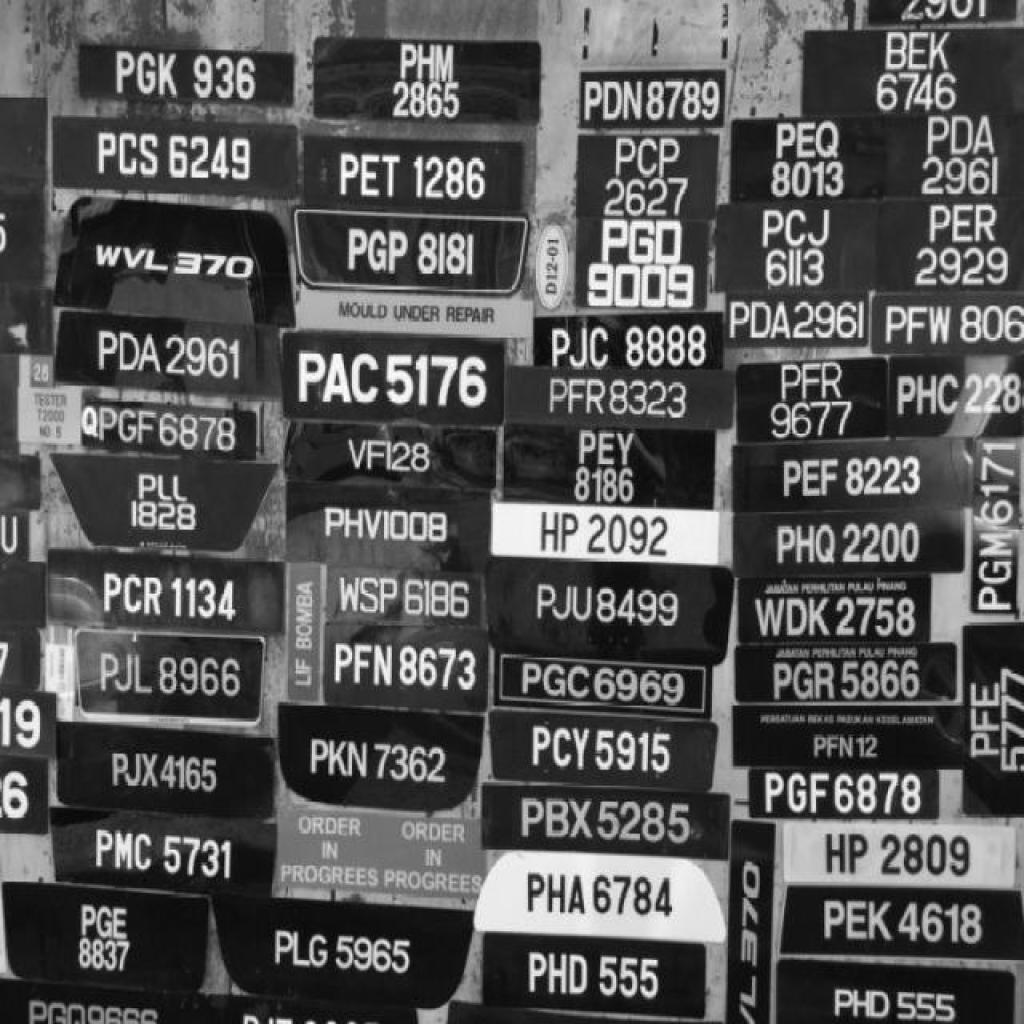car plate: (56, 194, 292, 325), (210, 898, 478, 1008), (3, 882, 210, 989), (492, 557, 722, 653), (44, 546, 286, 637), (50, 806, 275, 900), (278, 704, 483, 807), (56, 723, 278, 817), (49, 114, 298, 196), (485, 930, 710, 1018), (52, 311, 278, 398), (286, 338, 506, 427), (486, 708, 717, 791), (483, 785, 726, 862), (318, 38, 538, 123), (501, 423, 714, 509), (804, 27, 1022, 110), (286, 486, 489, 574), (778, 890, 1022, 961), (302, 135, 521, 213), (81, 631, 264, 720), (730, 442, 972, 506), (717, 200, 875, 296), (290, 419, 495, 492), (734, 509, 966, 572), (784, 823, 1012, 887), (504, 363, 731, 426), (876, 196, 1022, 291), (324, 626, 487, 710), (738, 354, 884, 441), (732, 118, 883, 202), (78, 44, 294, 102), (578, 218, 708, 314), (498, 654, 705, 714), (740, 578, 930, 641), (883, 114, 1024, 196), (578, 136, 716, 217), (329, 565, 486, 630), (535, 317, 721, 370), (746, 772, 936, 822), (579, 72, 724, 126), (725, 296, 866, 342)
